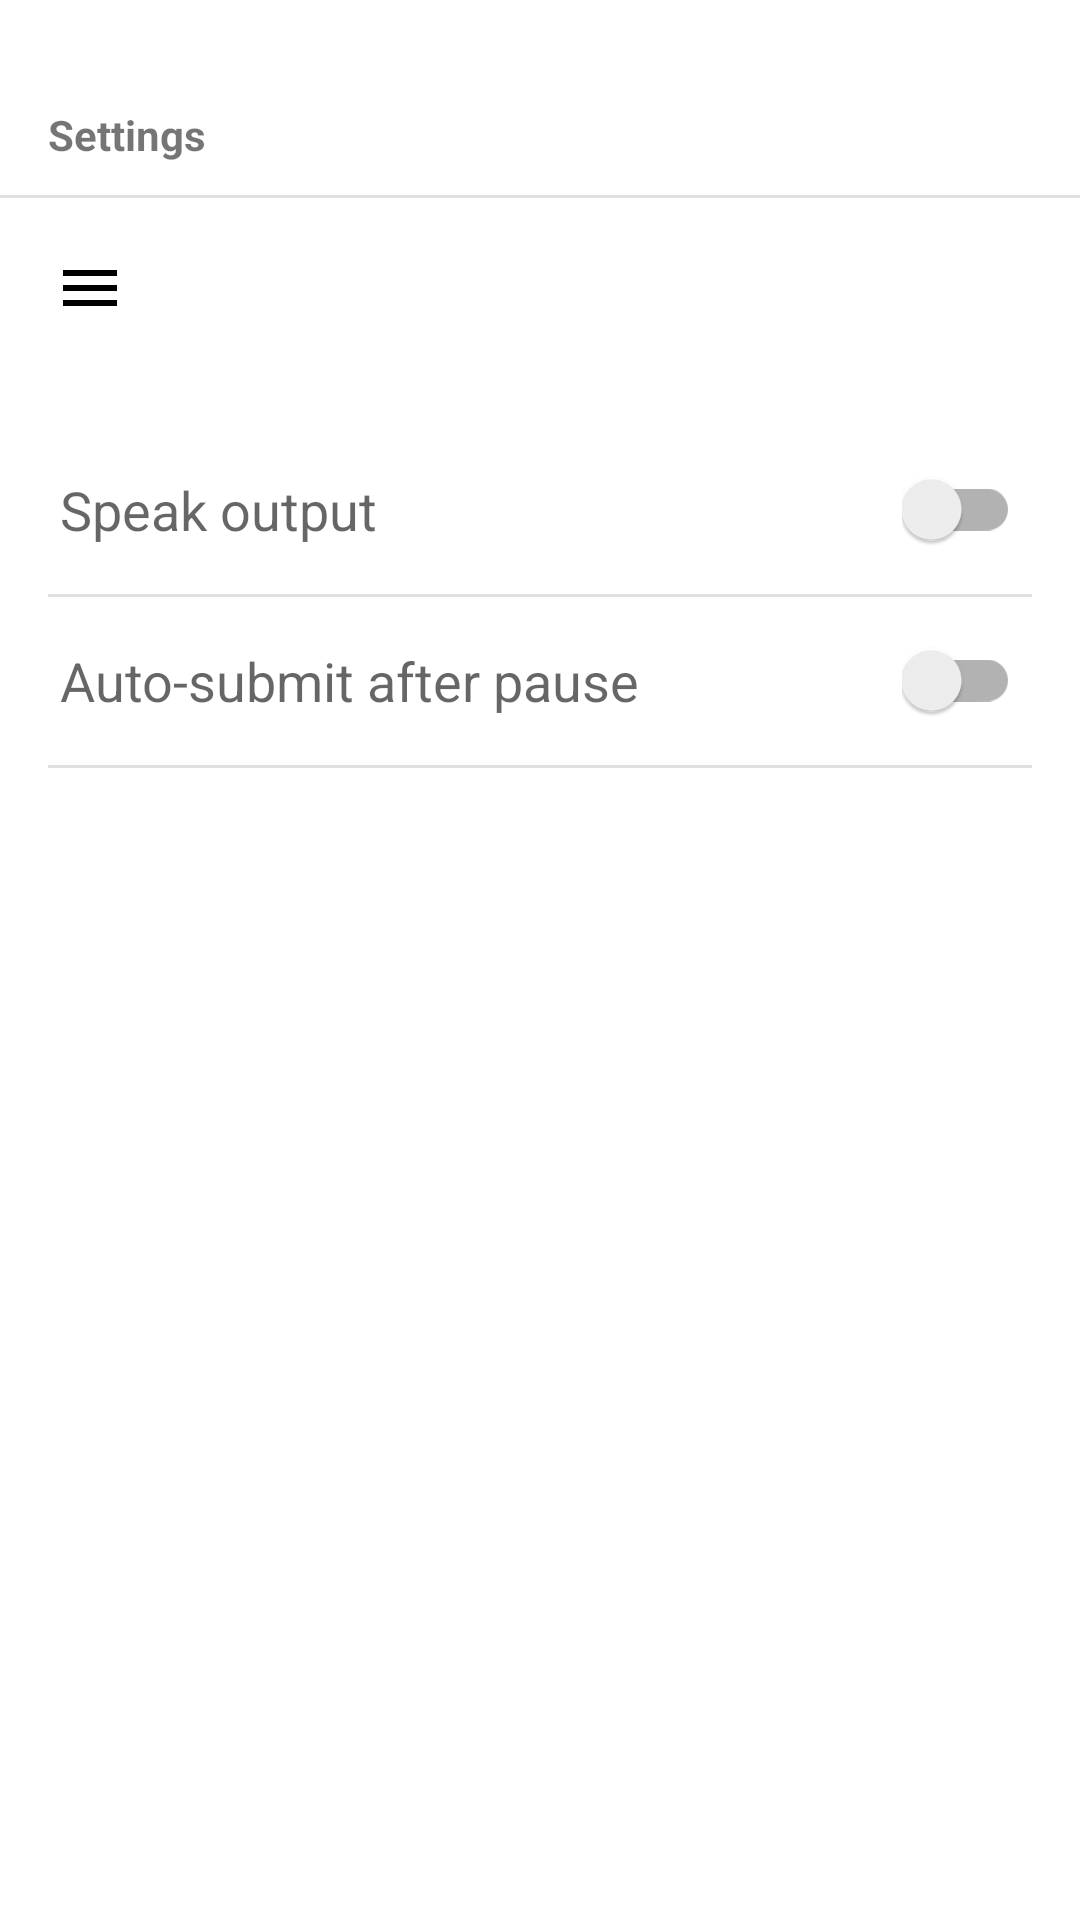

Where to tap for icons on this 1080px x 1920px app screen, as (x=x, y=y):
Navigation Menu: (x=90, y=288)
